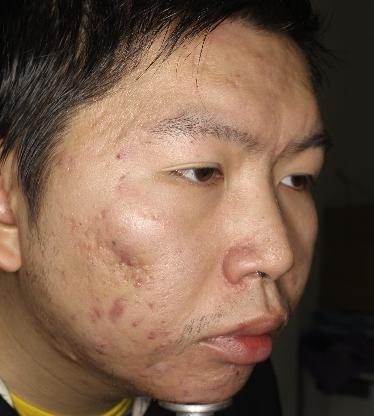Nodules: (89, 329, 112, 357)
Papules: (145, 328, 160, 342)
acne scar: (106, 295, 129, 328), (86, 296, 104, 329)
